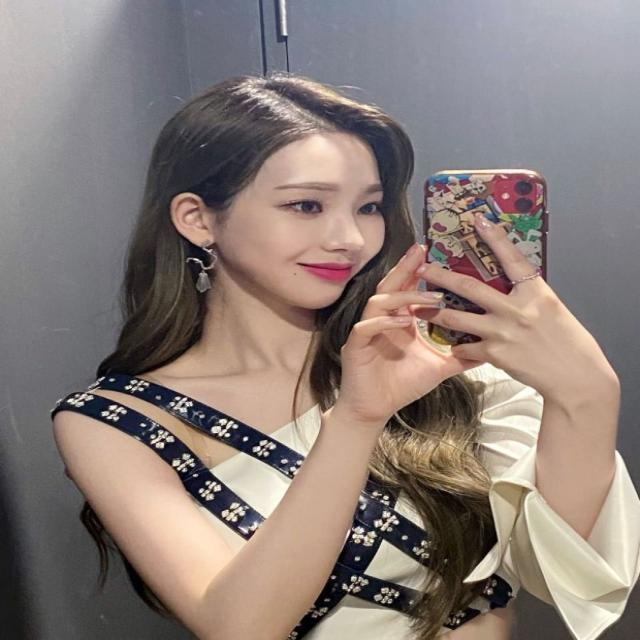phone: (419, 162, 553, 358)
